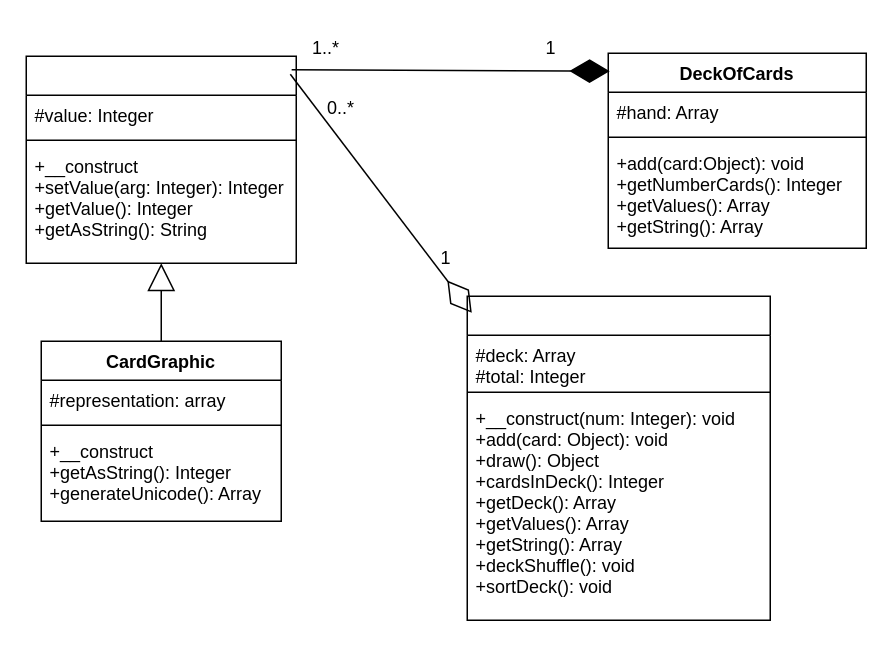
Image size: 893x647. Some labels were removed from this diagram. The shapes that lost their labels are listed below. From the top down, each one's box as (x1, y1, x2, y2) in pixels, then its label:
(25, 55, 296, 263): Card
(466, 295, 770, 620): CardHand
